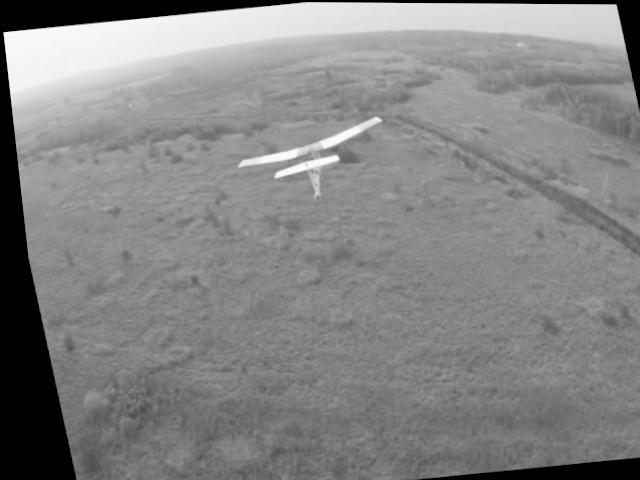hedef: (220, 112, 403, 218)
